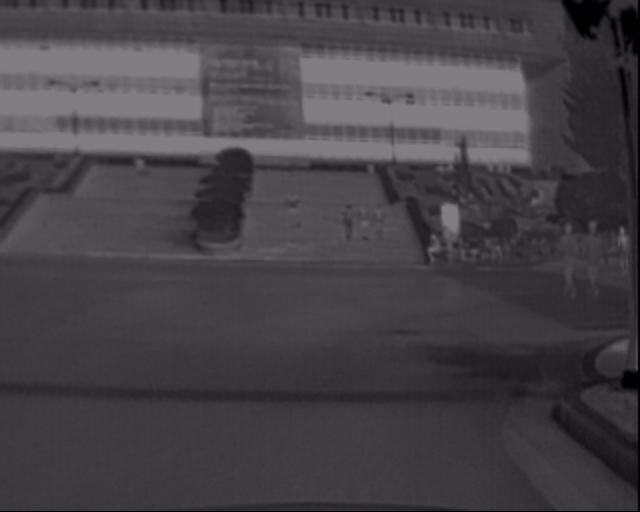person: (550, 215, 585, 302), (578, 217, 610, 301), (610, 228, 639, 281), (339, 201, 359, 247)
